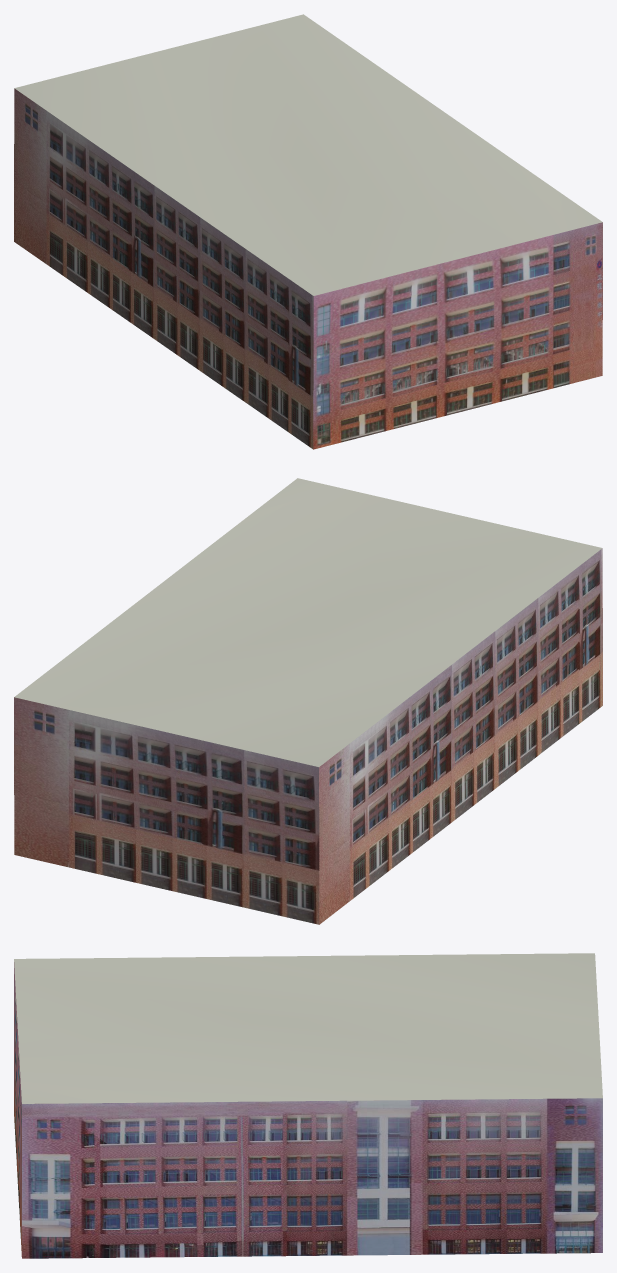
File: jxl_l2.gltf
The picture shows the model from 3 angles, top to bottom: view 1: azimuth 30°, elevation 25°; view 2: azimuth 150°, elevation 25°; view 3: azimuth 270°, elevation 25°; orthographic projection. The views are drawn at different scales.
Size of the model in its own units: 52 by 25.09 by 86.14.
3 materials, 3 textured.
